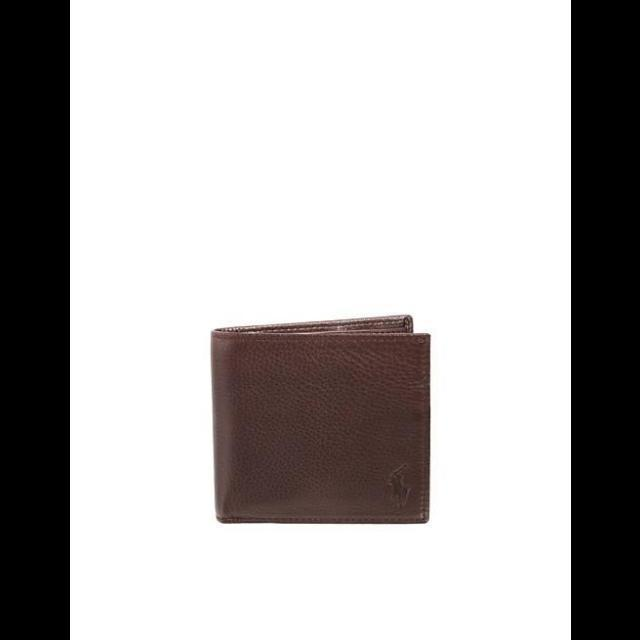wallet: (202, 310, 434, 530)
